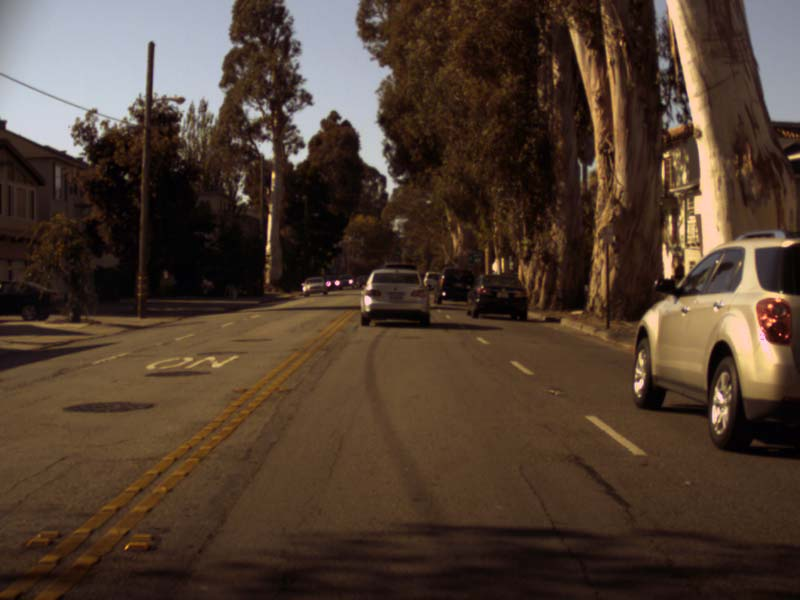Green: (396, 247, 400, 255)
